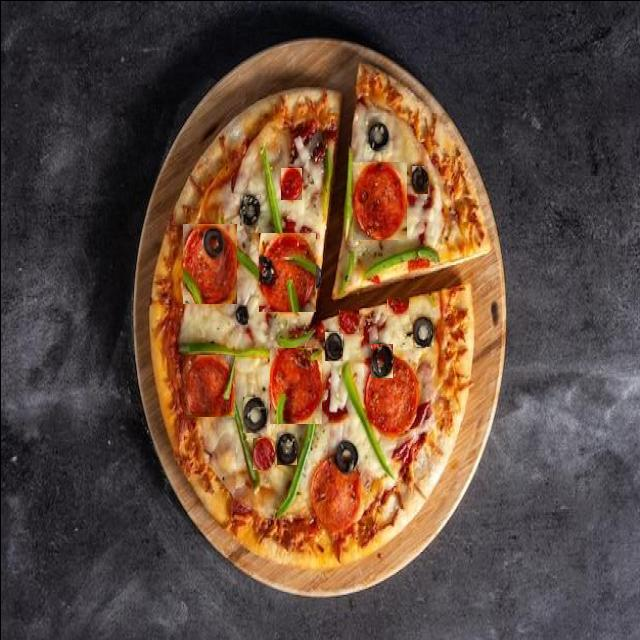olive: (242, 396, 266, 432), (370, 342, 392, 377), (334, 440, 357, 472), (276, 432, 296, 464), (412, 316, 433, 346), (239, 194, 259, 225), (367, 122, 388, 151), (300, 260, 320, 288), (197, 268, 214, 299), (324, 331, 342, 360), (411, 165, 427, 193), (235, 304, 247, 324)
pepperoni: (258, 232, 315, 311), (182, 223, 236, 303), (364, 355, 418, 435), (352, 161, 406, 239), (269, 347, 321, 423), (309, 454, 359, 532), (185, 354, 234, 416), (252, 437, 274, 469), (280, 167, 301, 199), (338, 309, 358, 333), (386, 296, 408, 314), (407, 258, 429, 270)
pizza: (148, 60, 490, 569)
